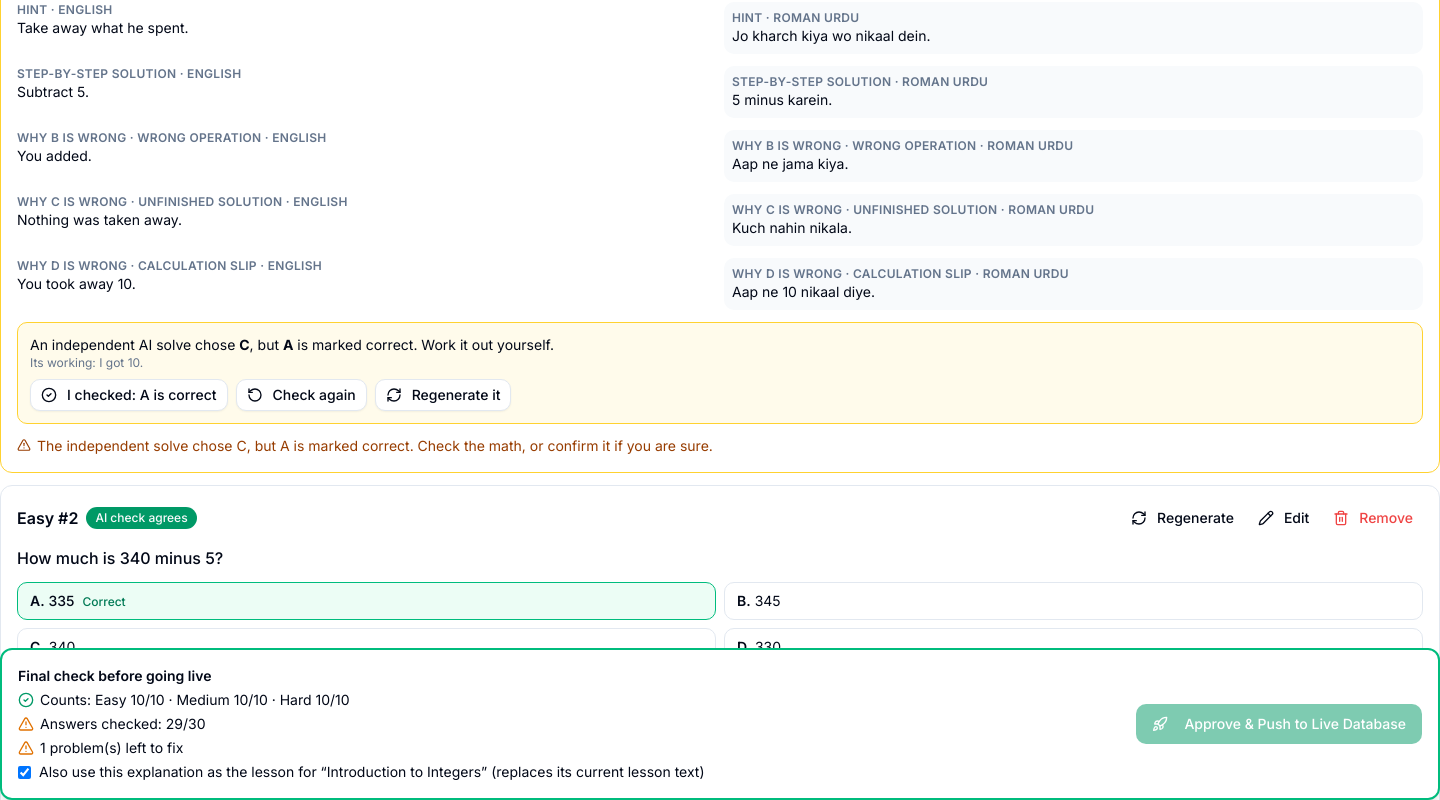
Scenario: AI draft review (Rule C) › offers a one-click regenerate when the checker disagrees with the answer
(page scrolled)
Click the button "Regenerate it" at (443, 395), box [375,379,511,411]
(page scrolled)
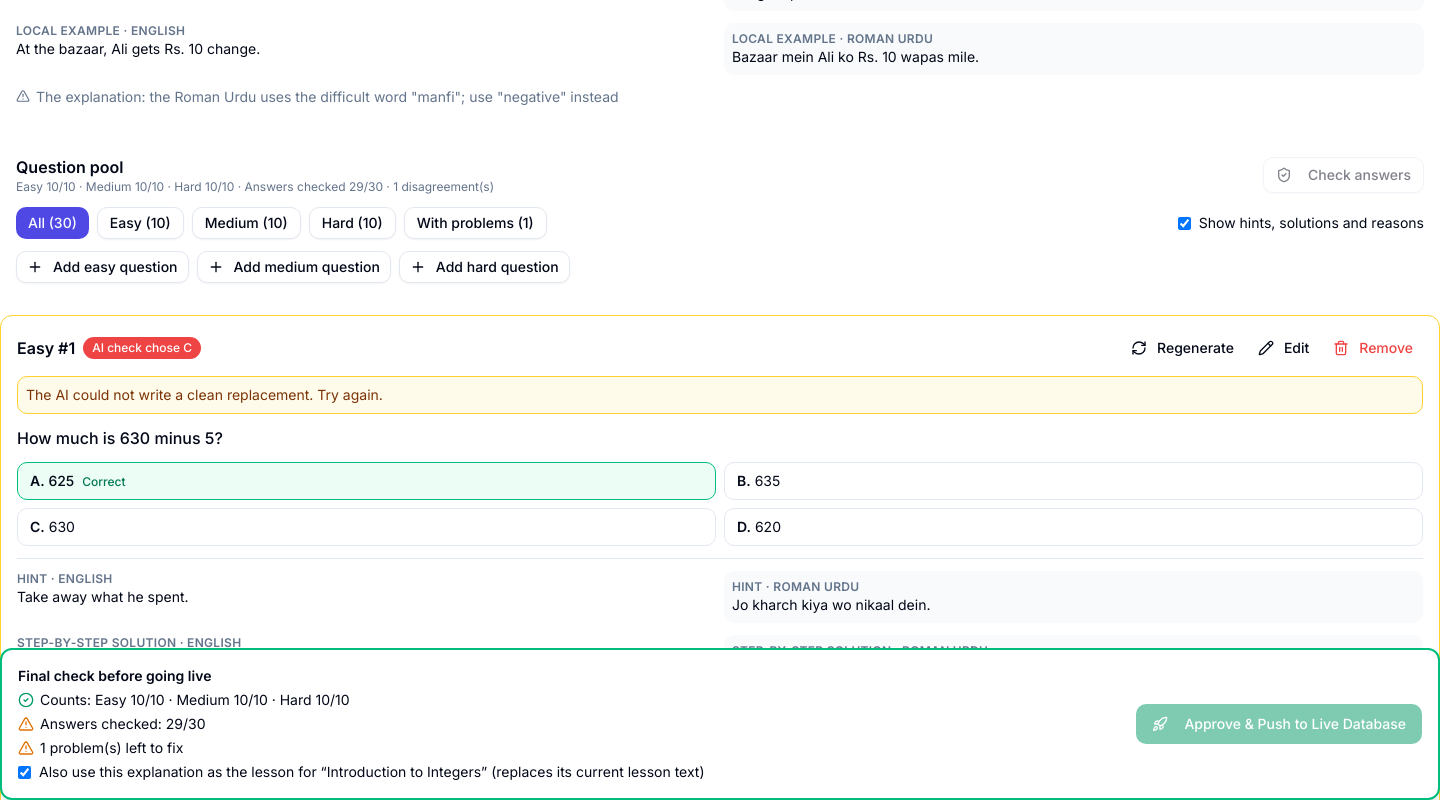
Expected: the text "The AI could not write a clean replacement. Try again." is shown, [17,376,1423,414]
